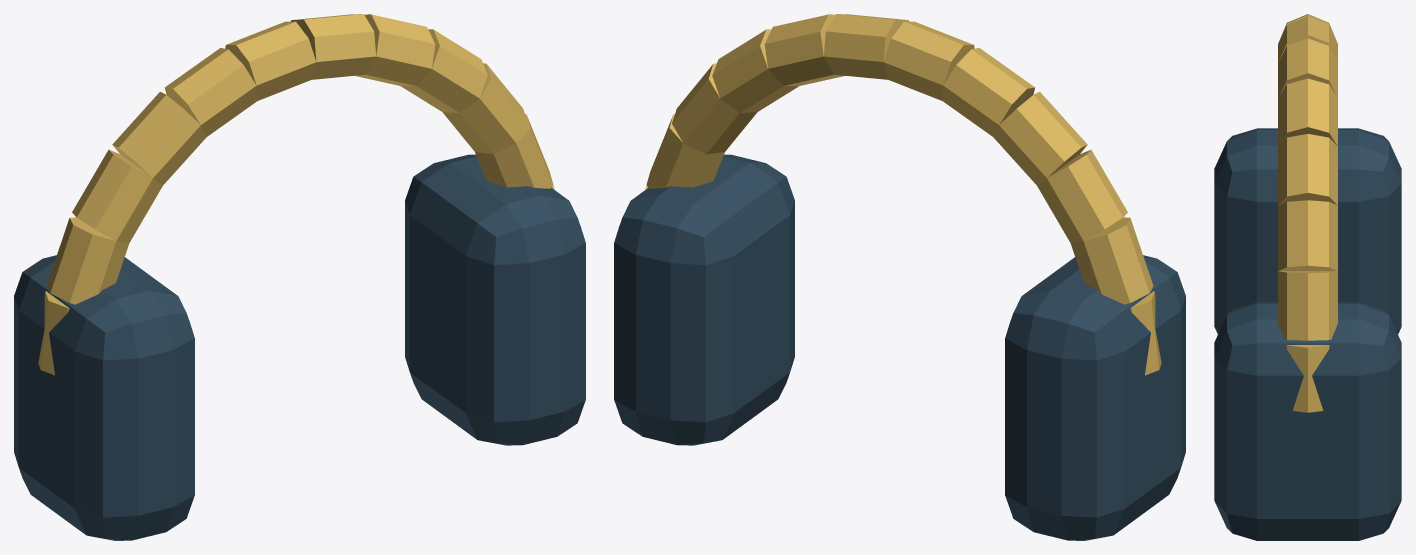
The model's file is headphones.glb.
3 views of the same model, side by side, from view 1: azimuth 30°, elevation 25°; view 2: azimuth 150°, elevation 25°; view 3: azimuth 270°, elevation 25° (orthographic). The views are drawn at different scales.
Visible parts, largest first — view 1: headphones_Mesh; view 2: headphones_Mesh; view 3: headphones_Mesh.
Boxes of the visible parts, box(x1,y1,x2,y2) form: headphones_Mesh: box(14, 14, 585, 540); headphones_Mesh: box(614, 14, 1185, 540); headphones_Mesh: box(1214, 14, 1401, 540).
Bounding box in the file's own units: 0.2918 × 0.2408 × 0.1.
